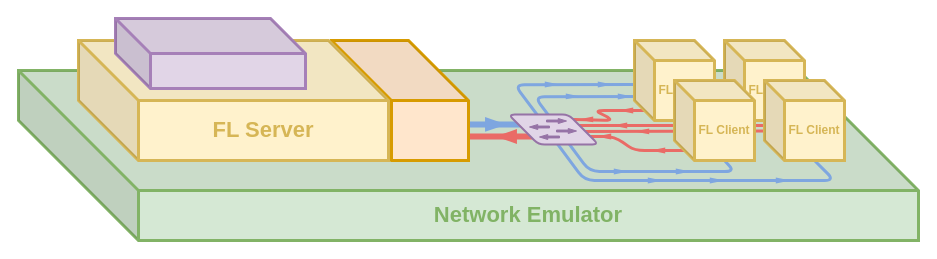
This 937x259 diagram has some shape labels left out. The centre of each missing label's shape, as x and y in pixels:
"Client Grouping NetDOG" goes at [400,100].
"Neural Network Pruning" goes at [210,53].
